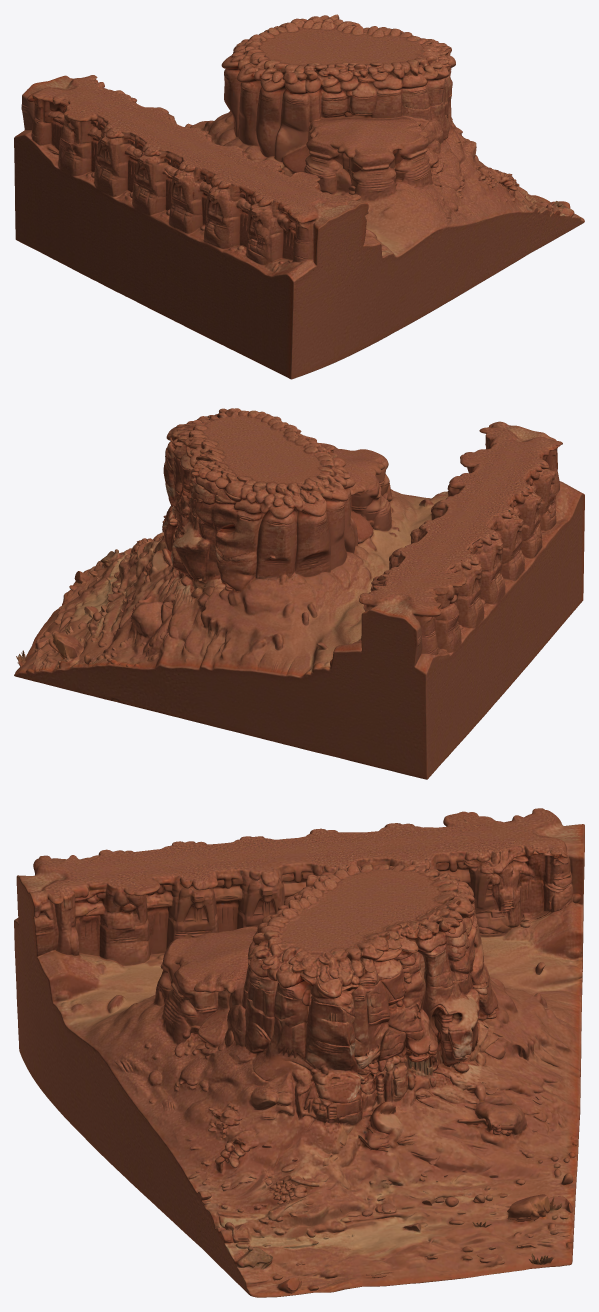
File: mars_mesa.glb
The picture shows the model from 3 angles, top to bottom: view 1: azimuth 30°, elevation 25°; view 2: azimuth 150°, elevation 25°; view 3: azimuth 270°, elevation 25°; orthographic projection. The views are drawn at different scales.
Parts seen in each view (by area): view 1: tripo_node_82407679-5d17-43a8-94d0-95dda7d27f16; view 2: tripo_node_82407679-5d17-43a8-94d0-95dda7d27f16; view 3: tripo_node_82407679-5d17-43a8-94d0-95dda7d27f16.
Part boxes in pixels (bbox=[...]): tripo_node_82407679-5d17-43a8-94d0-95dda7d27f16: bbox=[14, 14, 584, 379]; tripo_node_82407679-5d17-43a8-94d0-95dda7d27f16: bbox=[14, 408, 584, 779]; tripo_node_82407679-5d17-43a8-94d0-95dda7d27f16: bbox=[14, 808, 584, 1297].
Size of the model in its own units: 0.9806 by 0.4149 by 0.8202.
1 material, 1 textured.
